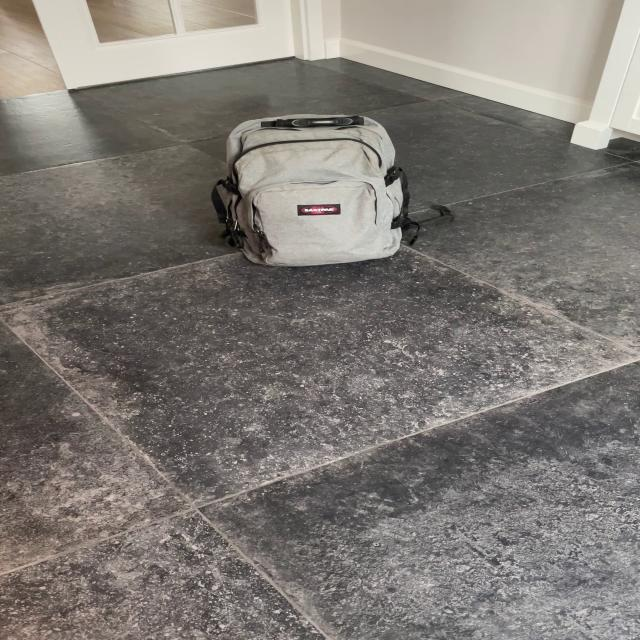backpack: (203, 107, 419, 268)
